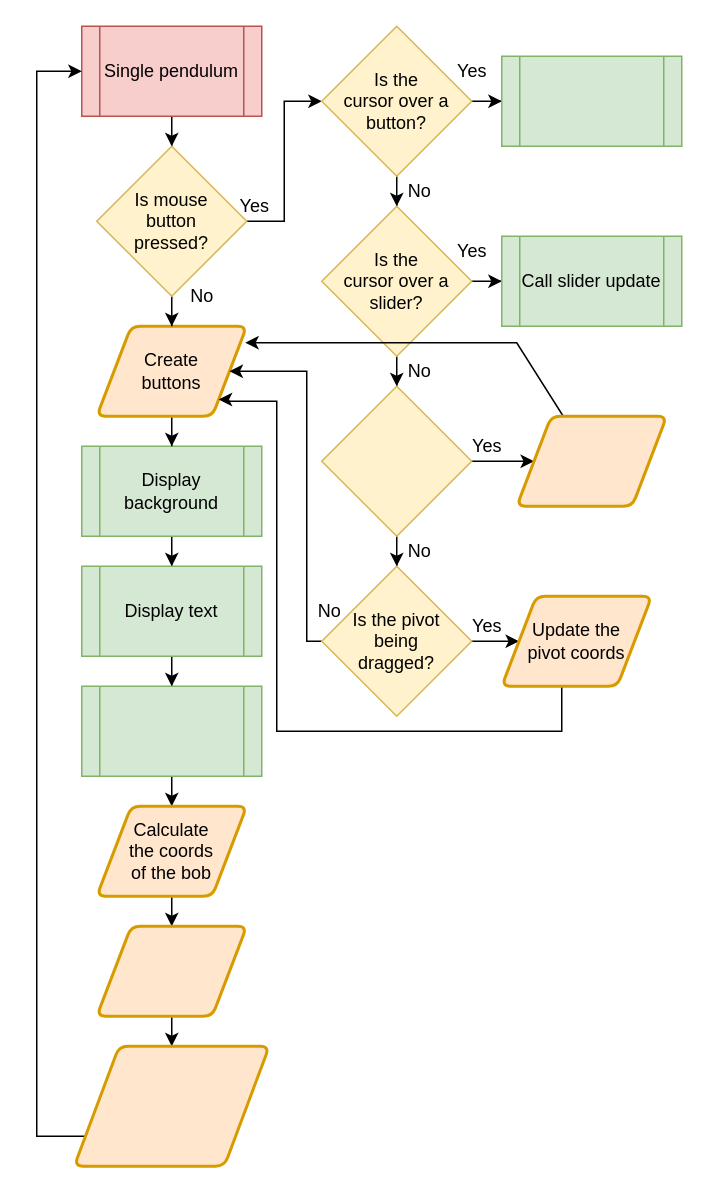
The diagram is 708 pixels wide and 1194 high, and some of its shapes have lost their labels. Here are the shapes that lost their labels. From the top down, the centre of each, then its label:
point (591, 100): Call button action
point (396, 460): Is the bob being dragged?
point (591, 460): Update the bob coords
point (171, 730): Draw buttons and sliders
point (171, 970): Draw the bob and pendulum to the screen
point (171, 1105): Update values of variables changed in the calculation ready for next cycle
